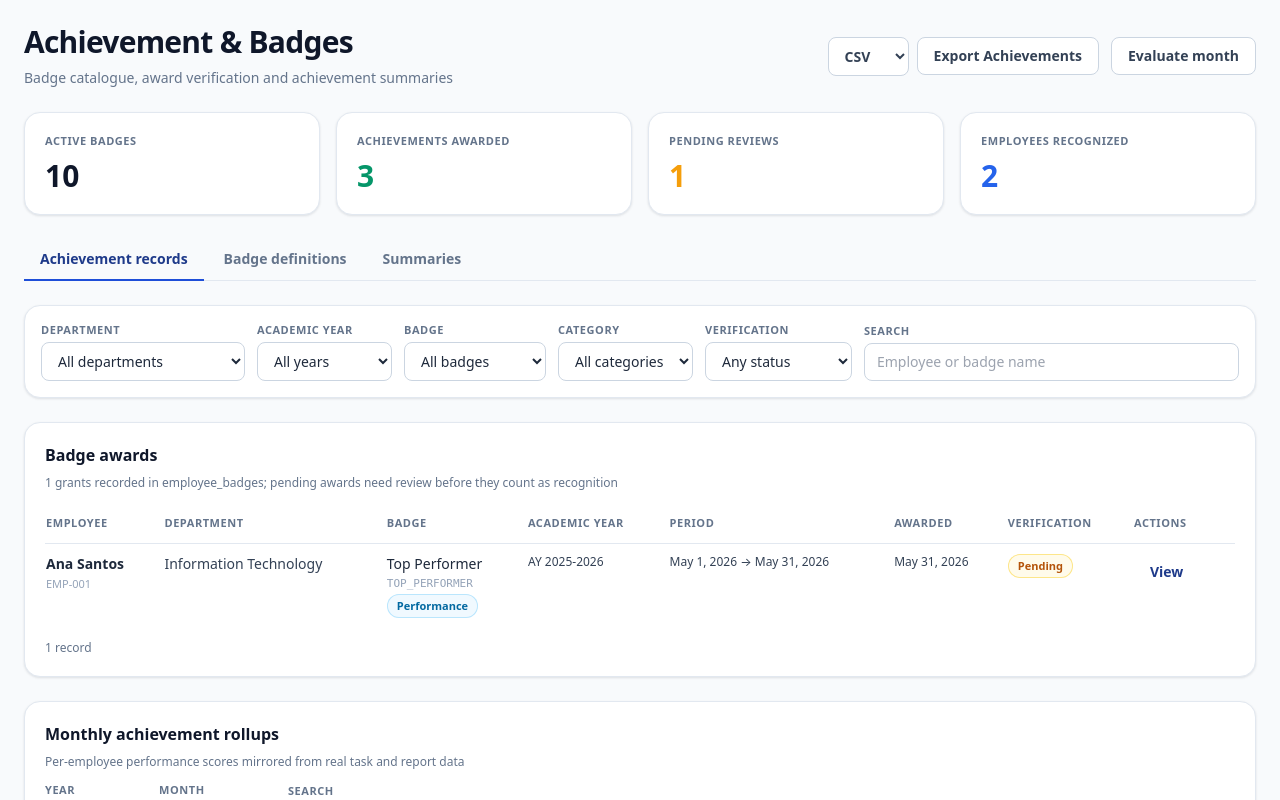
Test: AdminAchievementsPage › summarises only verified awards and keeps tie ranks equal
The width and height of the screenshot is (1280, 800).
Step 1. Click the button "Summaries" → (422, 260), box [367,238,477,280]
(page scrolled)
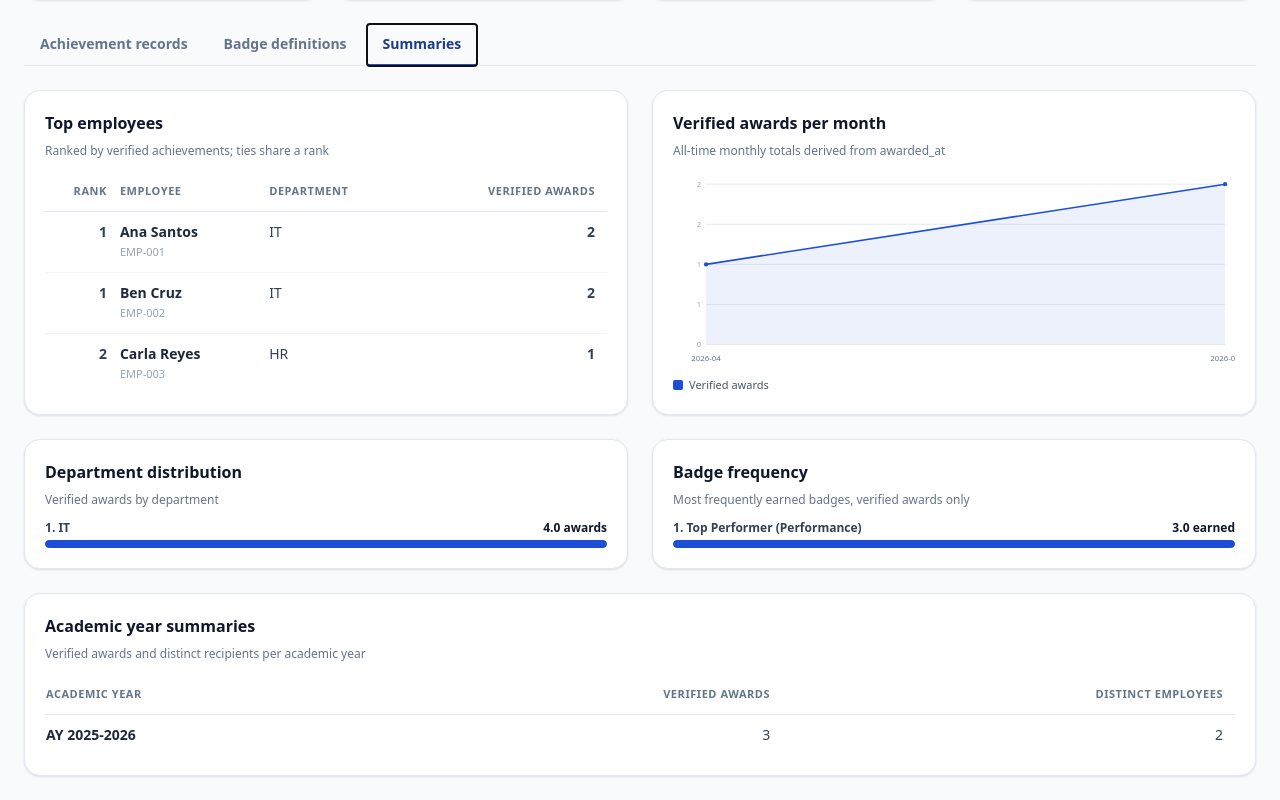
expect the text "AY 2025-2026" is shown: met, box [45,714,396,754]
expect the text "Ana Santos" is shown 2 times: met, box [120,222,198,240]; [120,282,182,302]
expect the text "2" is shown once: met, box [782,714,1235,754]
